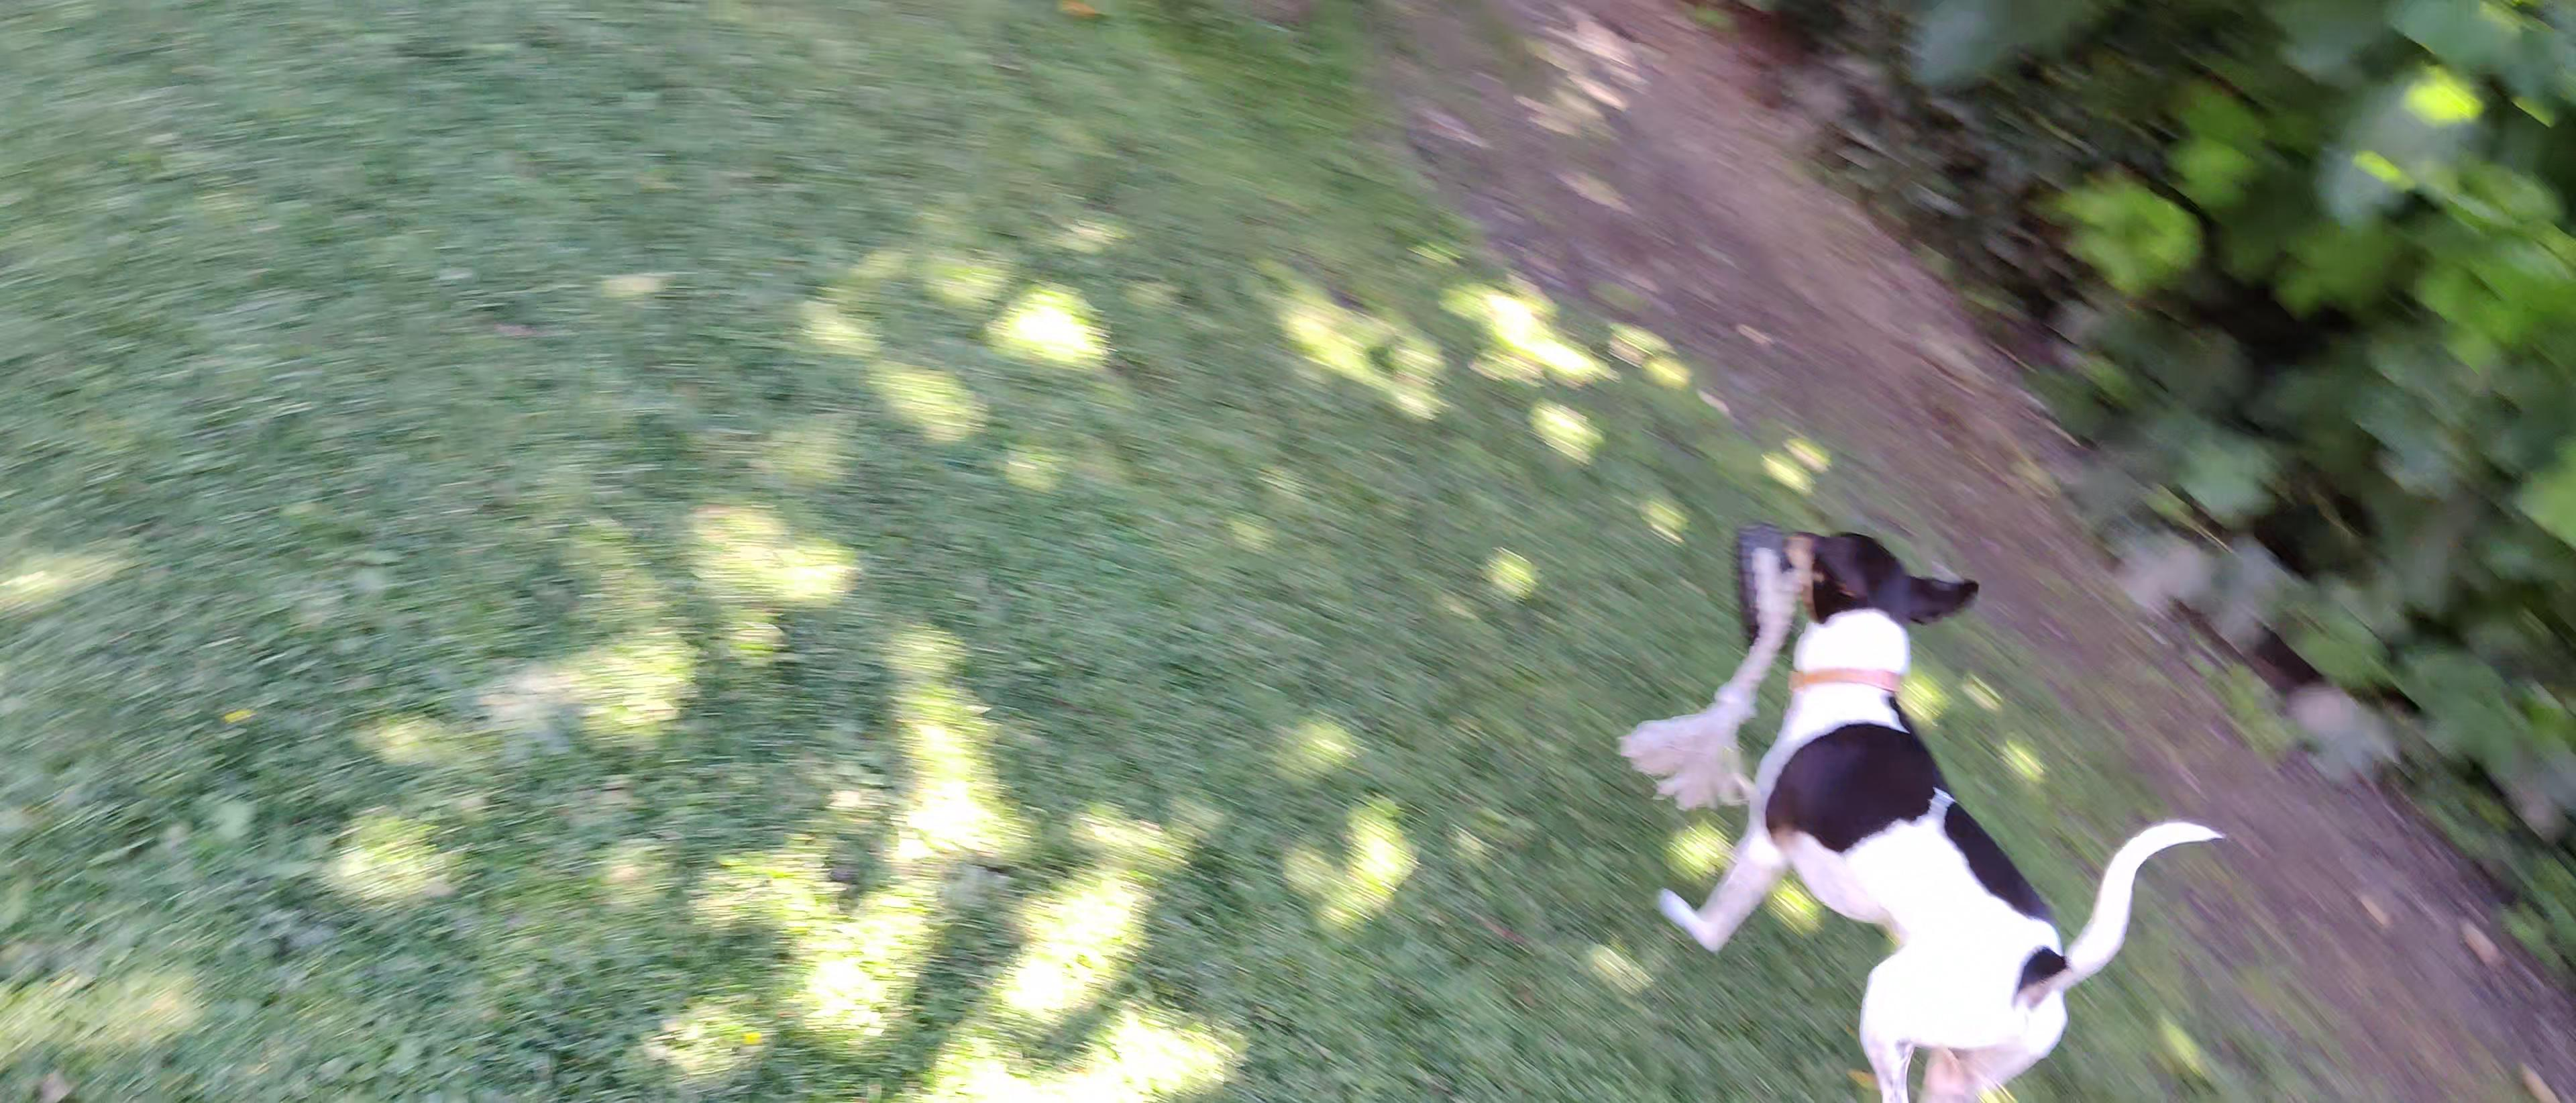Dog: (1649, 526, 2231, 1103)
